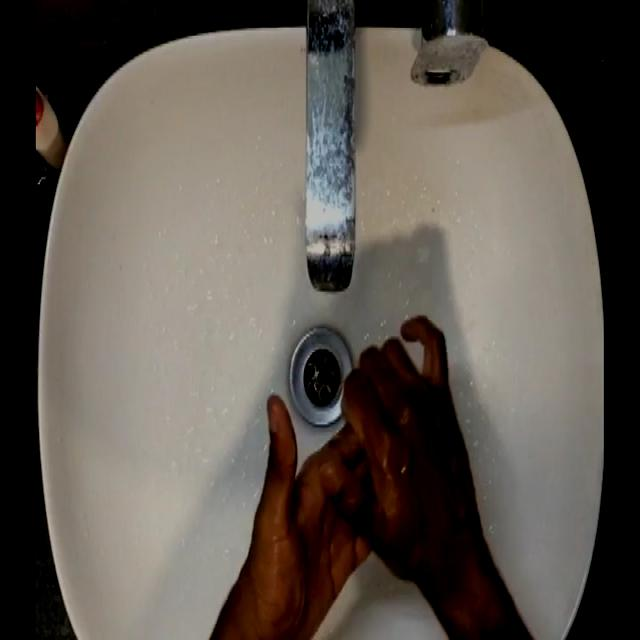step_5: (242, 338, 464, 640)
